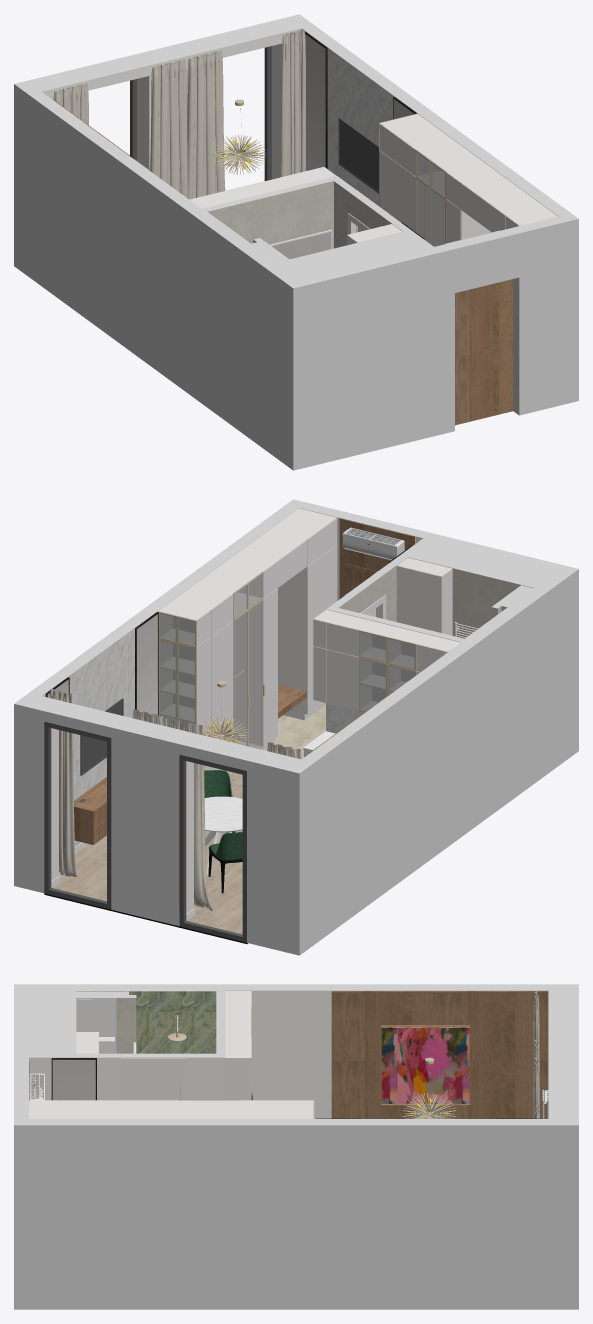
File: model.min.glb
3 renders of one model, top to bottom at view 1: azimuth 30°, elevation 25°; view 2: azimuth 150°, elevation 25°; view 3: azimuth 270°, elevation 25°, orthographic.
Parts seen in each view (by area): view 1: 3DGeom-467, 3DGeom-588, 3DGeom-7 (×3), 3DGeom-482, 3DGeom-471, 3DGeom-474, 3DGeom-468, 3DGeom-9, 3DGeom-48, 3DGeom-14, 3DGeom-617, 3DGeom-498 (+3 smaller); view 2: 3DGeom-467, 3DGeom-588, 3DGeom-617, 3DGeom-569, 3DGeom-474, 3DGeom-471, 3DGeom-520, 3DGeom-468, 3DGeom-499, 3DGeom-498, 3DGeom-9, 3DGeom-48 (+19 smaller); view 3: 3DGeom-467, 3DGeom-633, 3DGeom-468, 3DGeom-53, 3DGeom-588, 3DGeom-470, 3DGeom-617, 3DGeom-469, 3DGeom-48, 3DGeom-515, 3DGeom-512, 3DGeom-45 (+3 smaller).
Part boxes in pixels (box(x1,y1,x2,y2)): 3DGeom-467: box(14, 14, 578, 470); 3DGeom-588: box(379, 114, 557, 246); 3DGeom-7 (×3): box(53, 50, 225, 199); 3DGeom-482: box(455, 279, 513, 425); 3DGeom-471: box(208, 181, 402, 258); 3DGeom-474: box(327, 48, 394, 205); 3DGeom-468: box(42, 28, 558, 216); 3DGeom-9: box(280, 30, 305, 176); 3DGeom-48: box(305, 31, 327, 170); 3DGeom-14: box(338, 117, 378, 193); 3DGeom-617: box(189, 167, 336, 208); 3DGeom-498: box(264, 46, 271, 180); 3DGeom-467: box(14, 499, 578, 955); 3DGeom-588: box(158, 508, 337, 775); 3DGeom-617: box(313, 609, 460, 710); 3DGeom-569: box(53, 772, 242, 934); 3DGeom-474: box(68, 628, 134, 846); 3DGeom-471: box(339, 557, 533, 638); 3DGeom-520: box(396, 557, 452, 635); 3DGeom-468: box(42, 508, 422, 920); 3DGeom-499: box(179, 754, 246, 942); 3DGeom-498: box(44, 721, 111, 909); 3DGeom-9: box(49, 689, 76, 877); 3DGeom-48: box(135, 612, 158, 715); 3DGeom-467: box(14, 984, 578, 1309); 3DGeom-633: box(331, 991, 547, 1118); 3DGeom-468: box(29, 990, 548, 1118); 3DGeom-53: box(381, 1027, 469, 1103); 3DGeom-588: box(29, 1100, 313, 1118); 3DGeom-470: box(76, 991, 216, 1053); 3DGeom-617: box(225, 991, 251, 1100); 3DGeom-469: box(121, 1058, 186, 1100); 3DGeom-48: box(51, 1058, 96, 1100); 3DGeom-515: box(76, 998, 116, 1053); 3DGeom-512: box(116, 998, 136, 1053); 3DGeom-45: box(127, 1085, 180, 1100).
Size of the model in its own units: 4.44 by 2.77 by 7.52.
57 materials, 19 textured.
